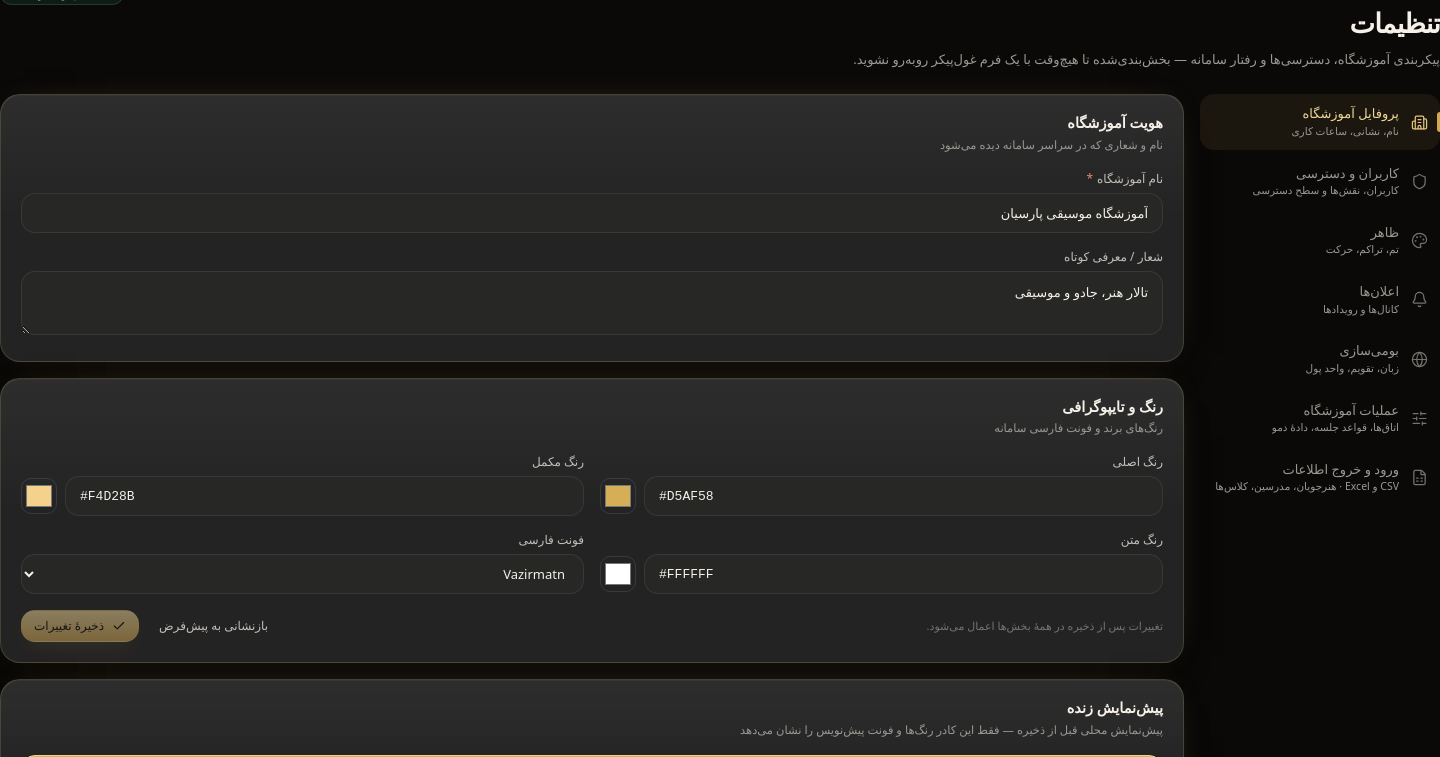
Scenario: M-6 unimplemented settings do NOT report fake success › saving a session rule writes it through the repository
Click the button "عملیات آموزشگاه اتاق‌ها، قواعد جلسه، دادهٔ دمو". click: (1320, 418)
box: [1200,391,1439,446]
(page scrolled)
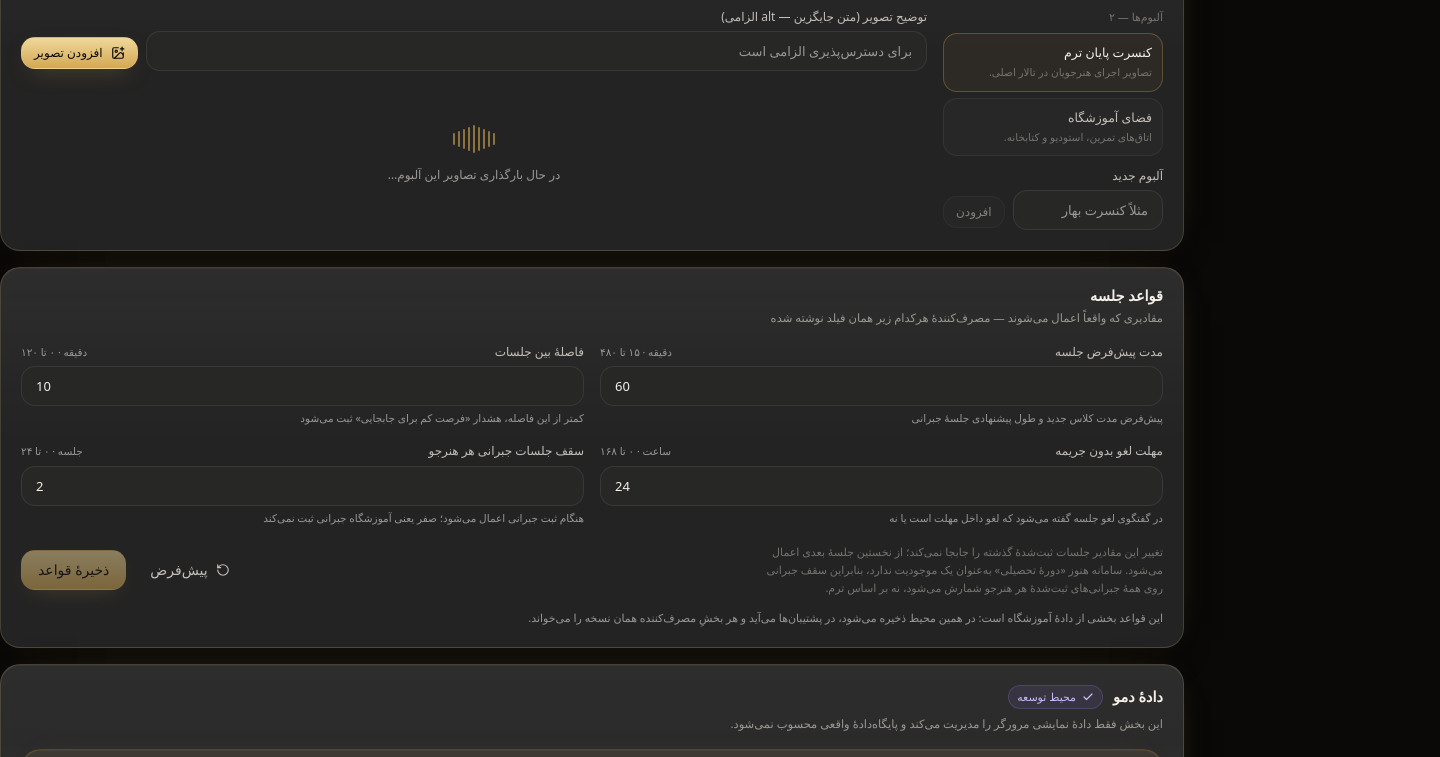
Replace the text in the field labelled "مدت پیش‌فرض جلسه دقیقه · ۱۵ تا ۴۸۰" with "۹۰". click: (882, 386)
box: [600,366,1163,406]
(page scrolled)
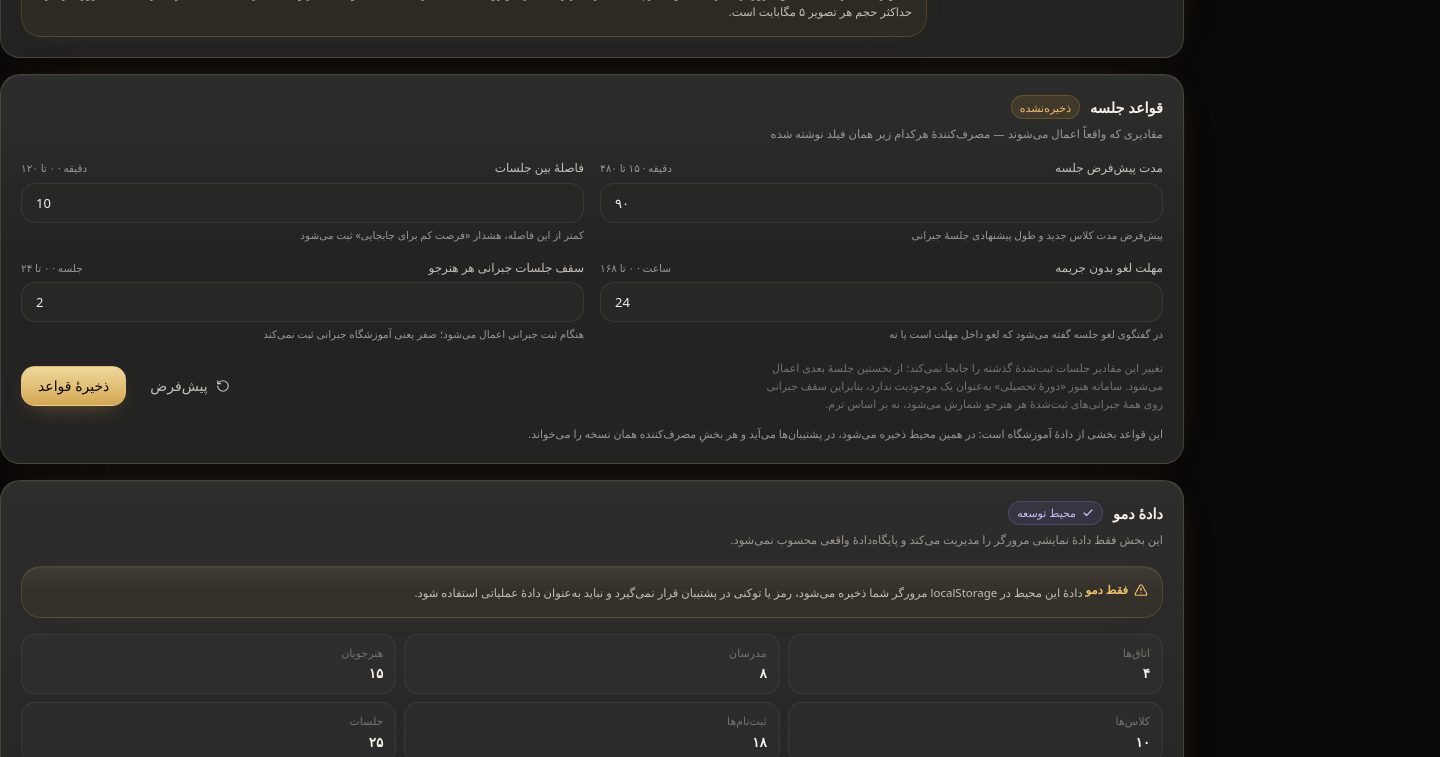
Click the button "ذخیرهٔ قواعد". click: (74, 386)
box: [21,366,126,406]
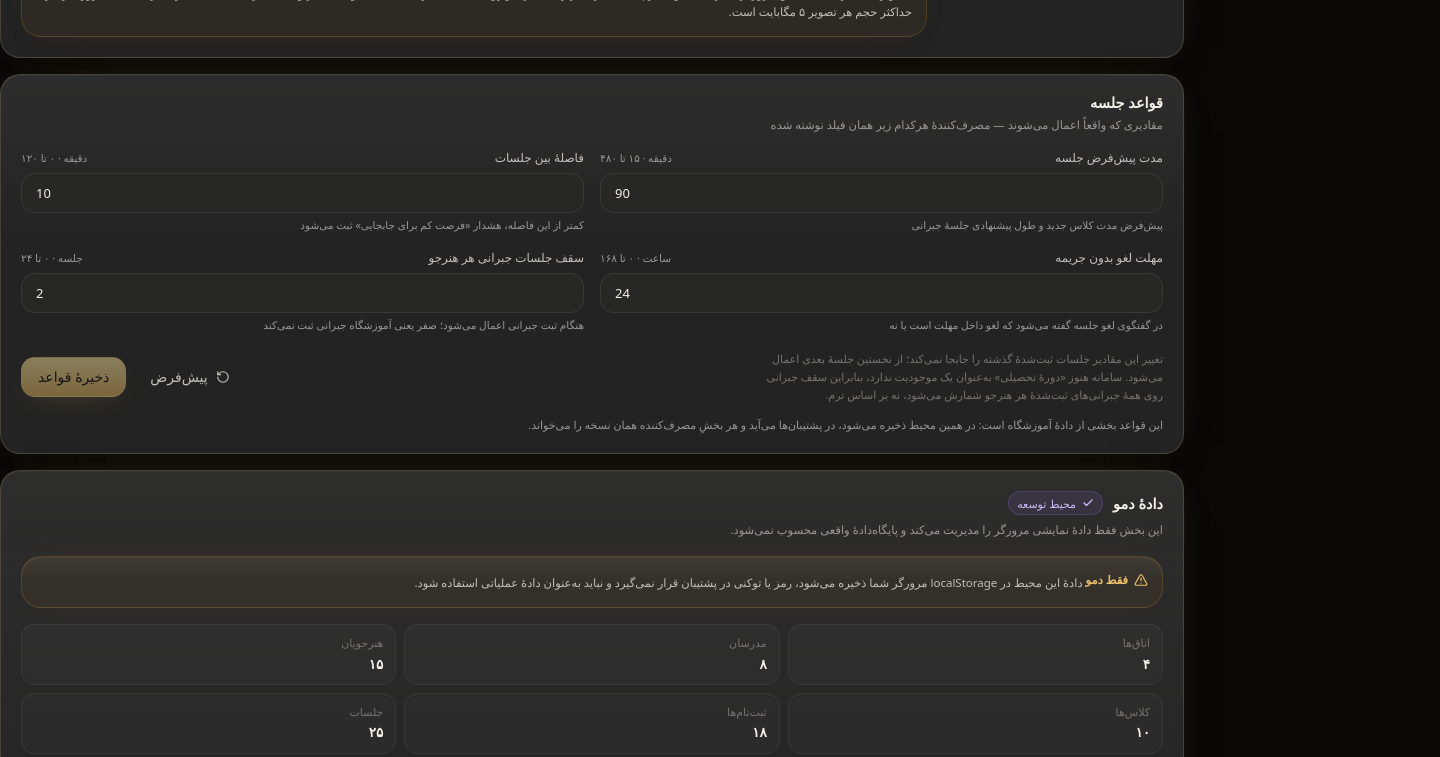
Note: And an out-of-range rule is refused rather than stored.
Replace the text in the field showing "90" with "5". click: (882, 193)
box: [600,173,1163,213]
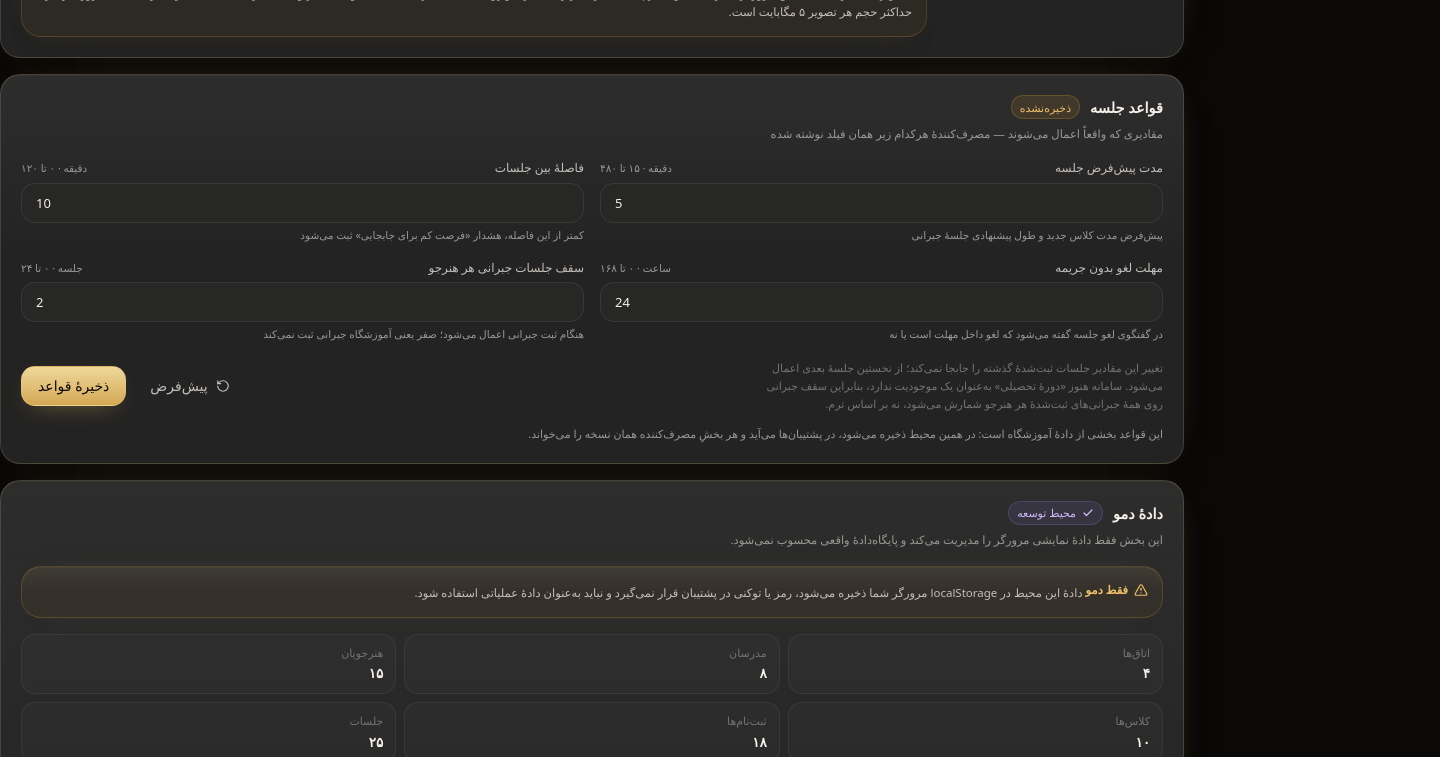
Click the button "ذخیرهٔ قواعد". click: (74, 386)
box: [21,366,126,406]
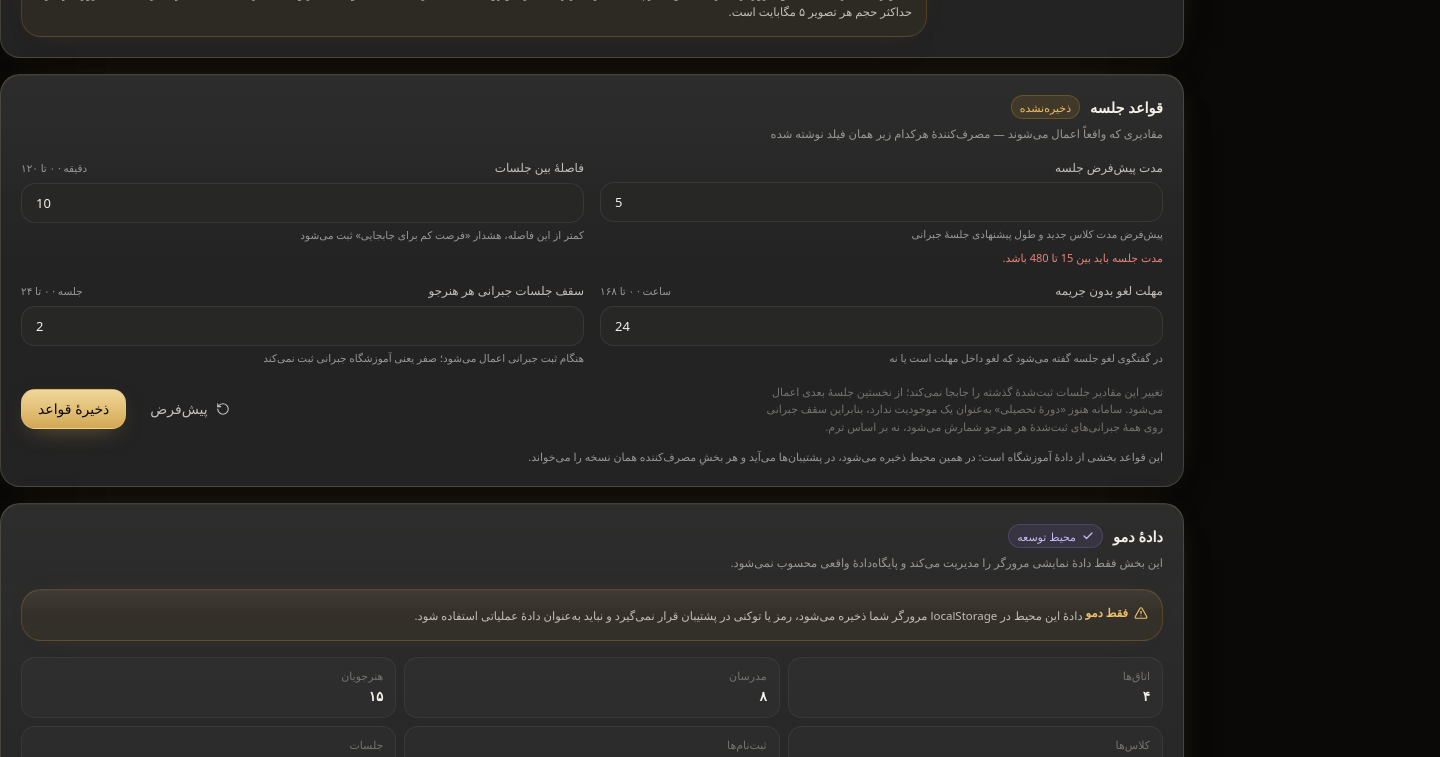
Result: the text "مدت جلسه باید بین 15 تا 480 باشد." is shown at [1002,250,1163,265]
